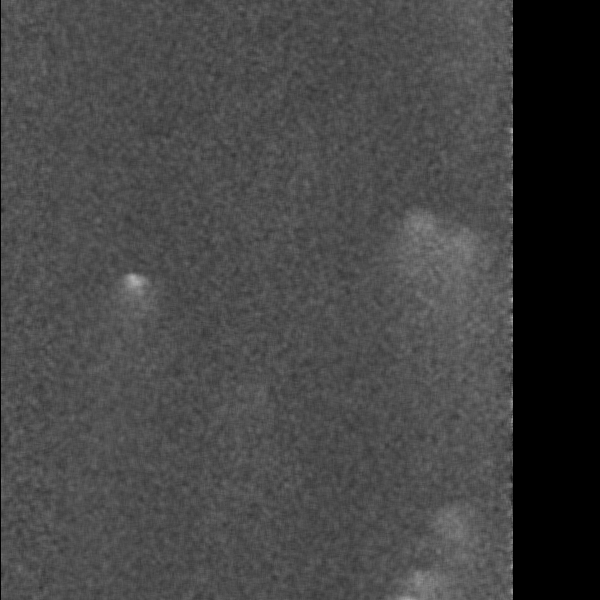spark: (391, 202, 453, 325), (412, 499, 477, 599), (115, 268, 153, 320)
